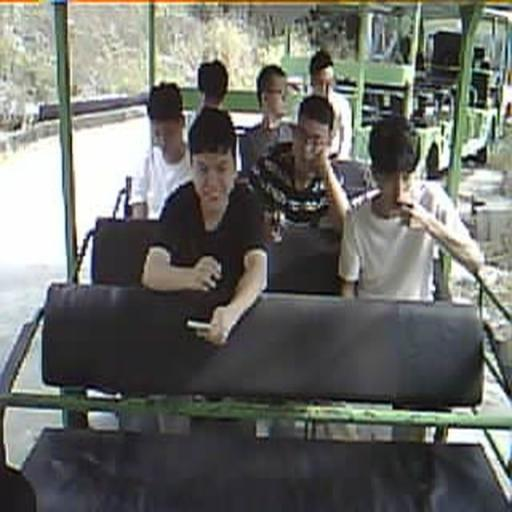persona: (140, 106, 269, 346), (336, 115, 498, 303), (246, 93, 353, 295), (127, 81, 193, 221), (240, 64, 298, 174), (304, 49, 353, 160), (192, 59, 230, 105)
